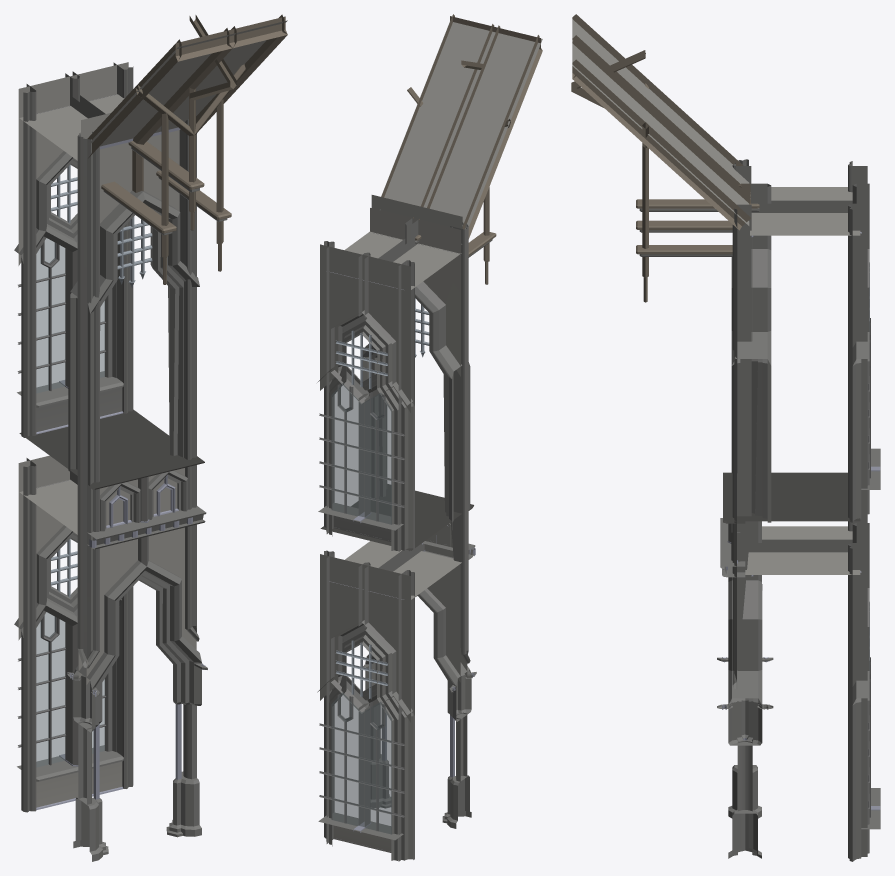
Rendered from Corner_Connection_Tile_02.fbx.
3 renders of one model, left to right at view 1: azimuth 30°, elevation 25°; view 2: azimuth 150°, elevation 25°; view 3: azimuth 270°, elevation 25°, orthographic. The views are drawn at different scales.
Visible parts, largest first — view 1: polySurface500, polySurface409, polySurface338, polySurface542, polySurface485, polySurface360, polySurface341, pCube581, pCube484, pCube405, pCube440, polySurface470 (+31 smaller); view 2: pCube405, pCube440, pCube530, polySurface404, polySurface336, polySurface500, polySurface341, polySurface543, pCube589, polySurface471, polySurface470, polySurface473 (+25 smaller); view 3: polySurface500, polySurface485, polySurface543, polySurface338, pCube405, polySurface409, pCube484, polySurface495, pCube359, pCube428, polySurface404, polySurface336 (+12 smaller).
Boxes of the visible parts, x1=… form: polySurface500: x1=67, y1=476, x2=207, y2=861; polySurface409: x1=23, y1=458, x2=133, y2=812; polySurface338: x1=23, y1=62, x2=133, y2=437; polySurface542: x1=87, y1=190, x2=199, y2=486; polySurface485: x1=179, y1=119, x2=199, y2=641; polySurface360: x1=87, y1=132, x2=99, y2=668; polySurface341: x1=77, y1=134, x2=87, y2=667; pCube581: x1=78, y1=468, x2=196, y2=684; pCube484: x1=19, y1=409, x2=178, y2=475; pCube405: x1=88, y1=20, x2=287, y2=146; pCube440: x1=18, y1=62, x2=128, y2=265; polySurface470: x1=36, y1=612, x2=65, y2=767; pCube405: x1=381, y1=22, x2=542, y2=244; pCube440: x1=320, y1=244, x2=410, y2=412; pCube530: x1=320, y1=554, x2=410, y2=722; polySurface404: x1=317, y1=620, x2=414, y2=860; polySurface336: x1=317, y1=310, x2=414, y2=550; polySurface500: x1=360, y1=543, x2=476, y2=828; polySurface341: x1=450, y1=225, x2=470, y2=663; polySurface543: x1=363, y1=281, x2=460, y2=521; pCube589: x1=370, y1=208, x2=460, y2=376; polySurface471: x1=331, y1=692, x2=361, y2=825; polySurface470: x1=361, y1=702, x2=391, y2=834; polySurface473: x1=331, y1=383, x2=361, y2=516; polySurface500: x1=717, y1=521, x2=773, y2=858; polySurface485: x1=732, y1=204, x2=751, y2=689; polySurface543: x1=751, y1=249, x2=771, y2=522; polySurface338: x1=848, y1=161, x2=867, y2=522; pCube405: x1=572, y1=19, x2=749, y2=225; polySurface409: x1=848, y1=517, x2=867, y2=861; pCube484: x1=745, y1=472, x2=860, y2=521; polySurface495: x1=572, y1=59, x2=750, y2=230; pCube359: x1=745, y1=526, x2=860, y2=574; pCube428: x1=750, y1=187, x2=860, y2=235; polySurface404: x1=852, y1=588, x2=869, y2=861; polySurface336: x1=852, y1=249, x2=869, y2=522.
Bounding box in the file's own units: 4.65 × 30.7 × 10.74.
